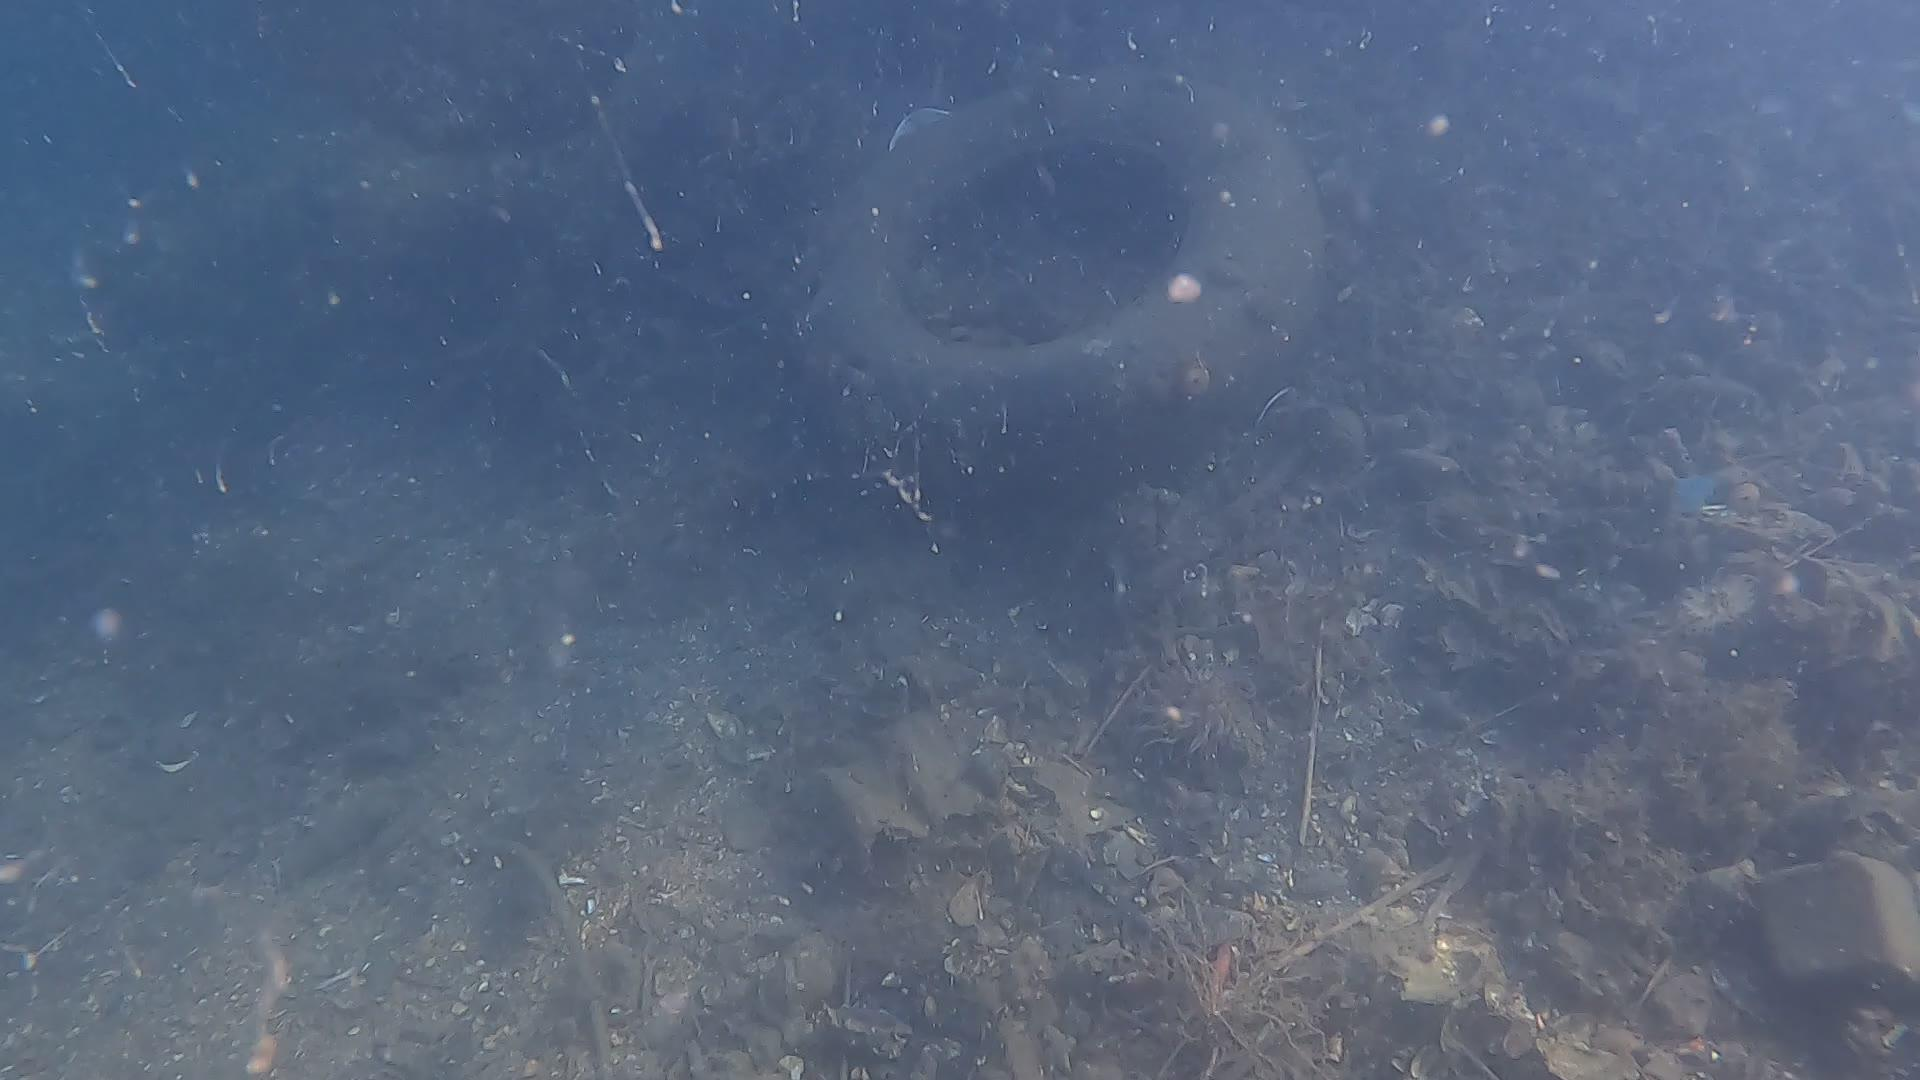tire: (802, 67, 1320, 488)
